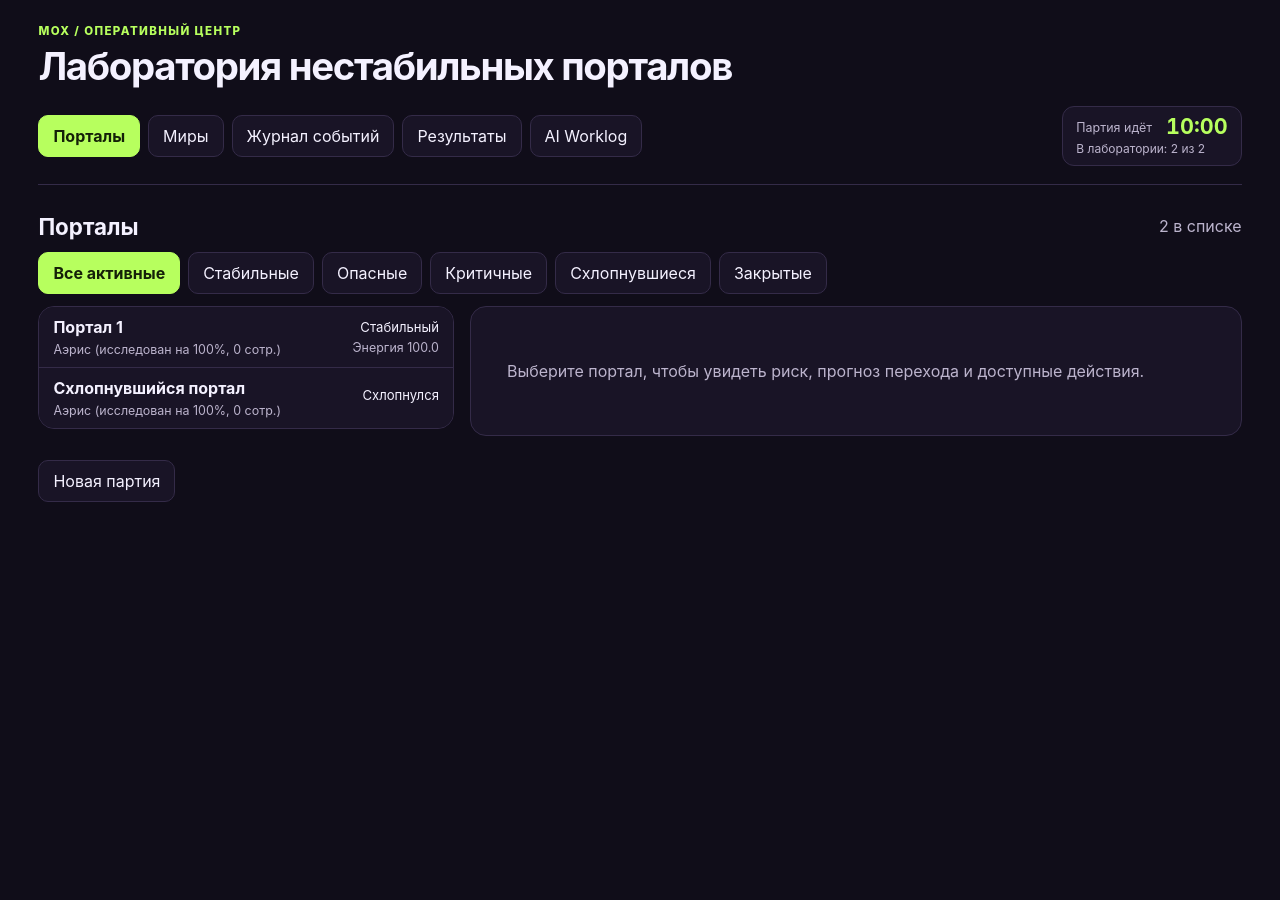
Test case: App › разделяет активные и закрытые порталы и предупреждает об исследованном мире
The image size is (1280, 900).
Expected: the button "Схлопнувшийся портал" is shown, [39,368,453,428]
Expected: the button "Старый портал" is not shown
Step 1. Click the button "Портал 1" → (88,327), box [39,307,453,368]
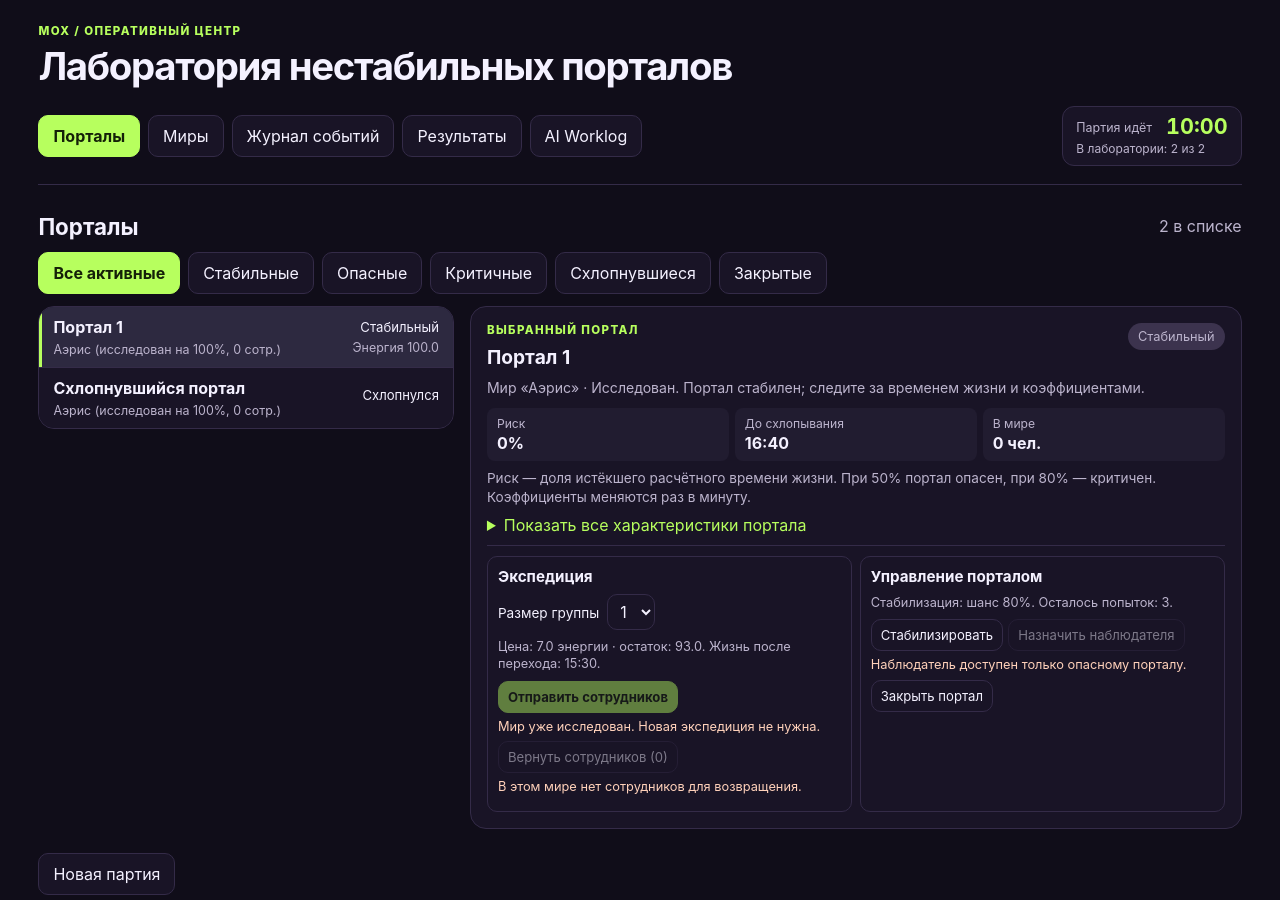
Expected: the message reads "Мир уже исследован. Новая экспедиция не нужна.", [498,719,820,734]
Step 2. Click the button "Закрытые" → (773,273), box [719,252,827,294]
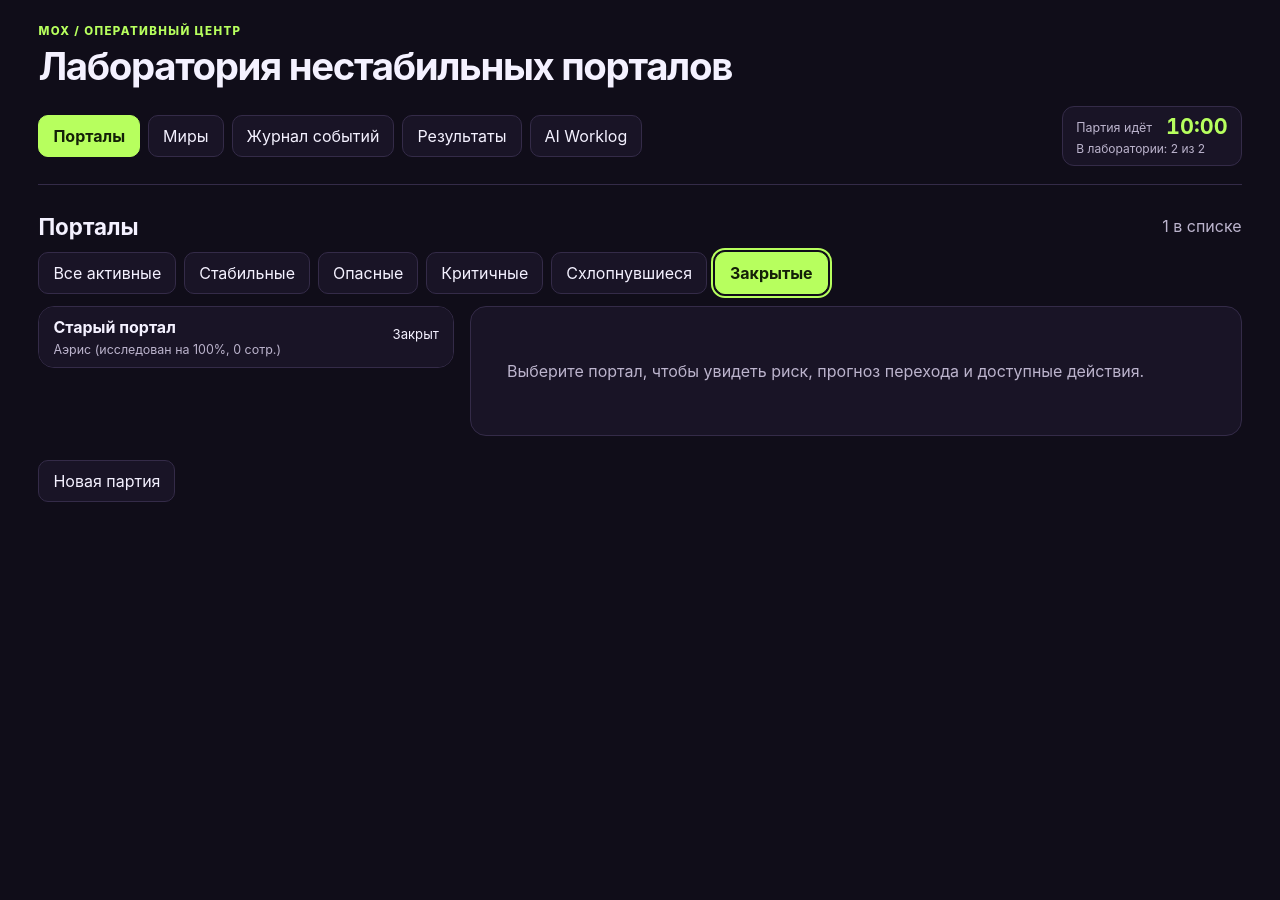
Expected: the button "Старый портал Аэрис (исследован на 100%, 0 сотр.) Закрыт" is shown, [39,307,453,367]
Expected: the button "Портал 1" is gone
